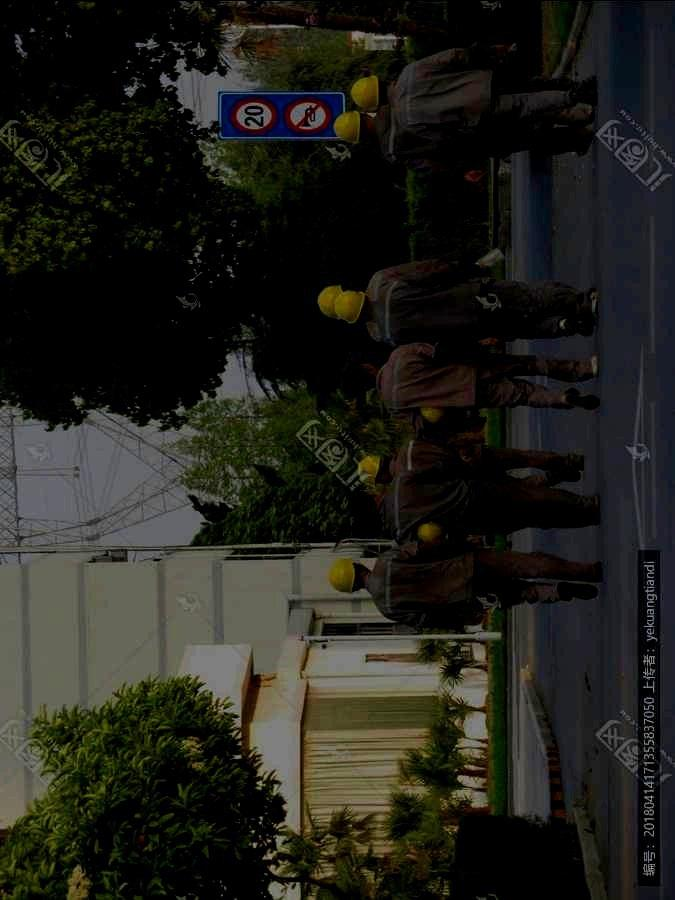helmet: (325, 557, 370, 594), (333, 110, 373, 146), (356, 454, 396, 489), (349, 75, 389, 110), (333, 291, 373, 325), (316, 284, 345, 320)
